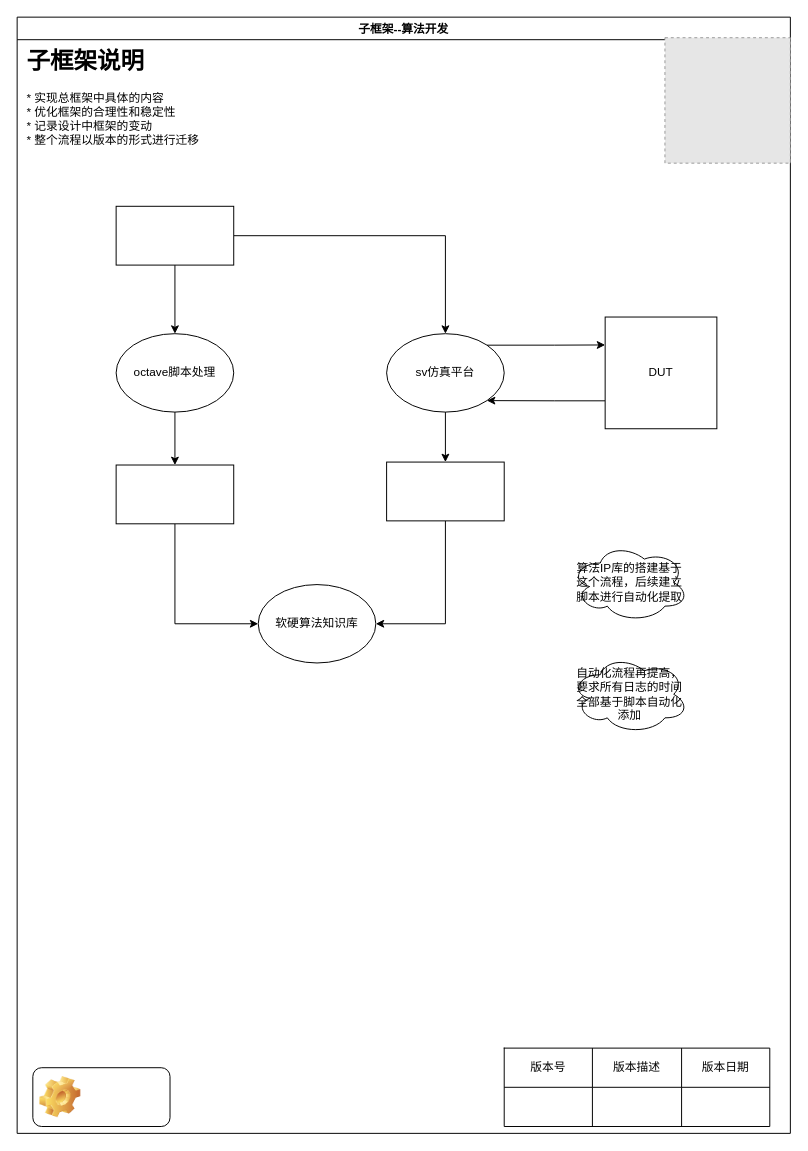
Some shapes in this 808 by 1151 pixel diagram are drawn without their labels. Grey dashed boxes stand in for pictures. The shapes that lost their labels are listed below. From the top down, each one's centre as x and y in pixels, then its label:
At (x=174, y=235): "图像数据".
At (x=174, y=494): "处理结果".
At (x=445, y=491): "仿真结果".
At (x=101, y=1097): "FpgaPublish".
